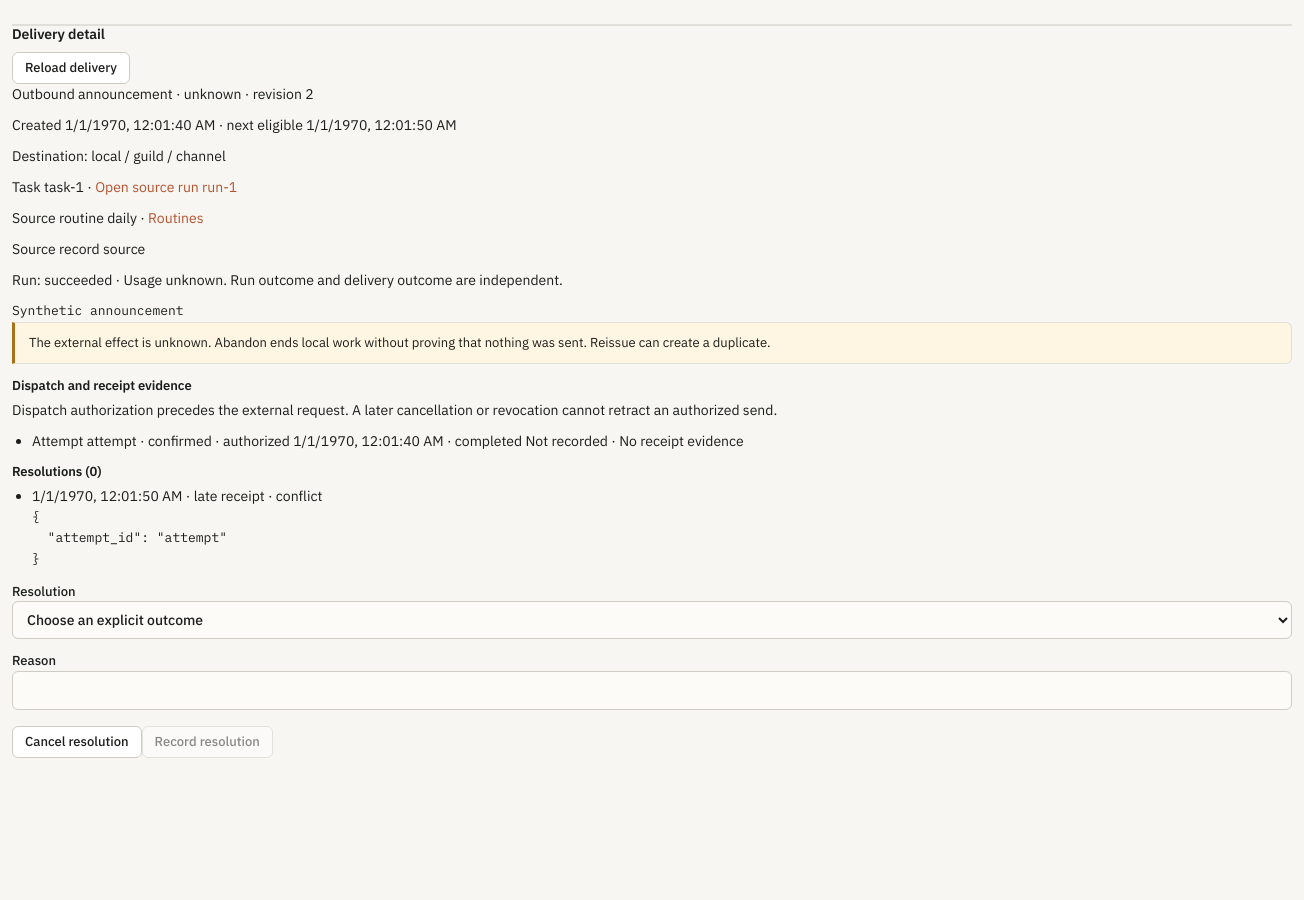
uses explicit late-conflict attempt evidence even after a terminal receipt
Select "Affirmative not-sent evidence" in the dropdown labelled "Resolution". click: [652, 620]
box: [12,601,1292,639]
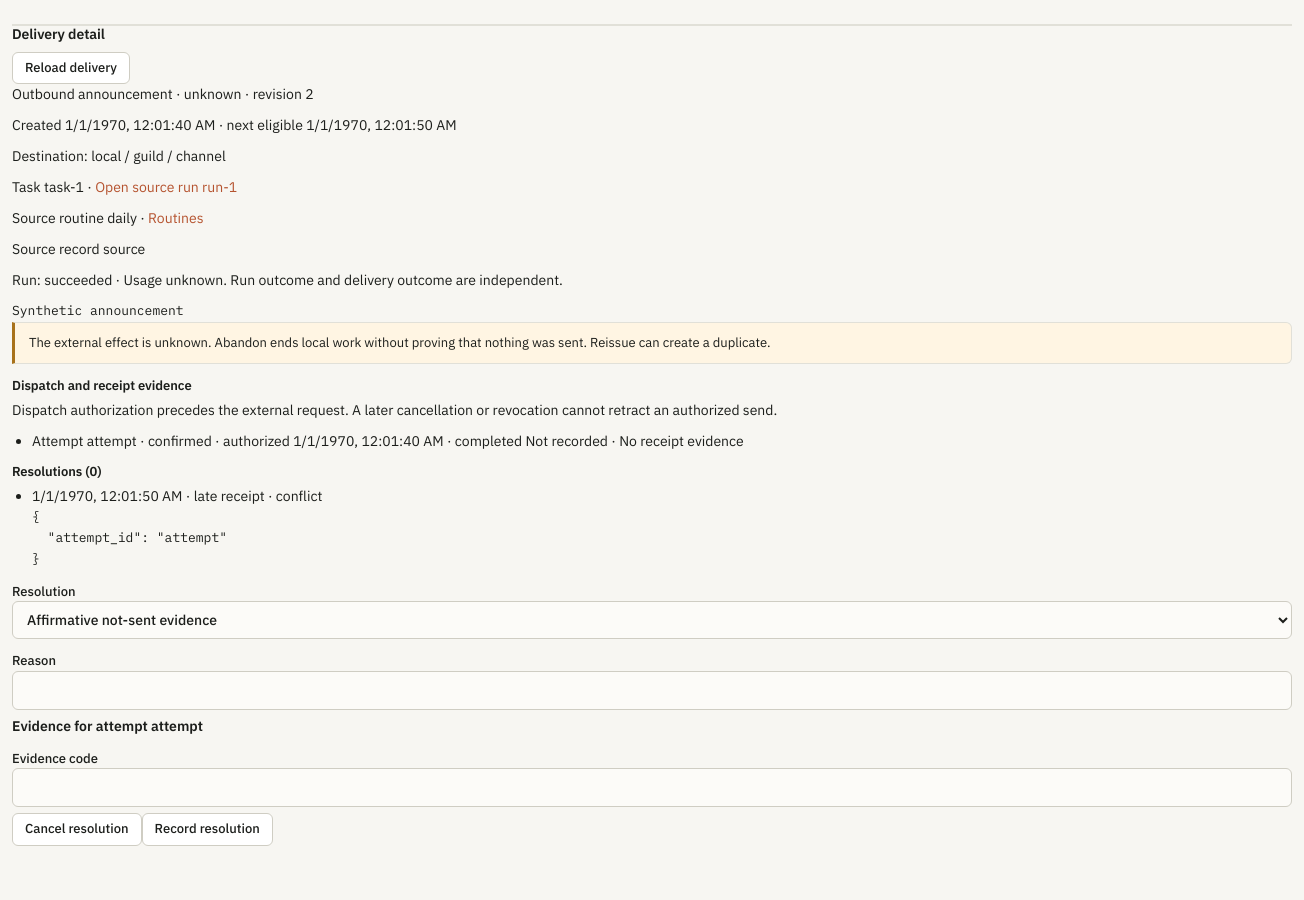
Type "Verified absence" into the field labelled "Reason". click: [652, 690]
box: [12,671,1292,710]
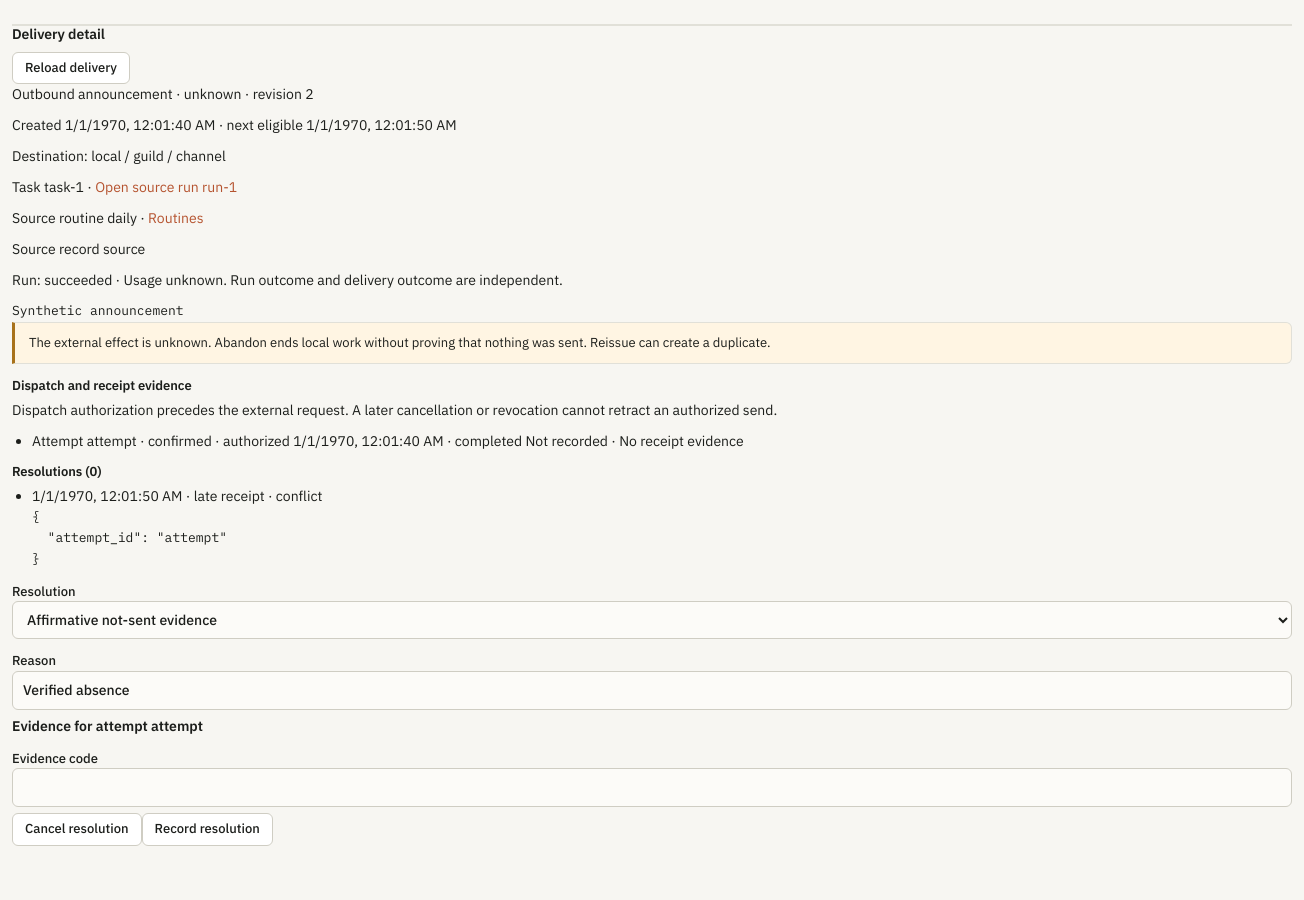
Type "operator_verified_absence" into the field labelled "Evidence code". click: [652, 788]
box: [12,768,1292,807]
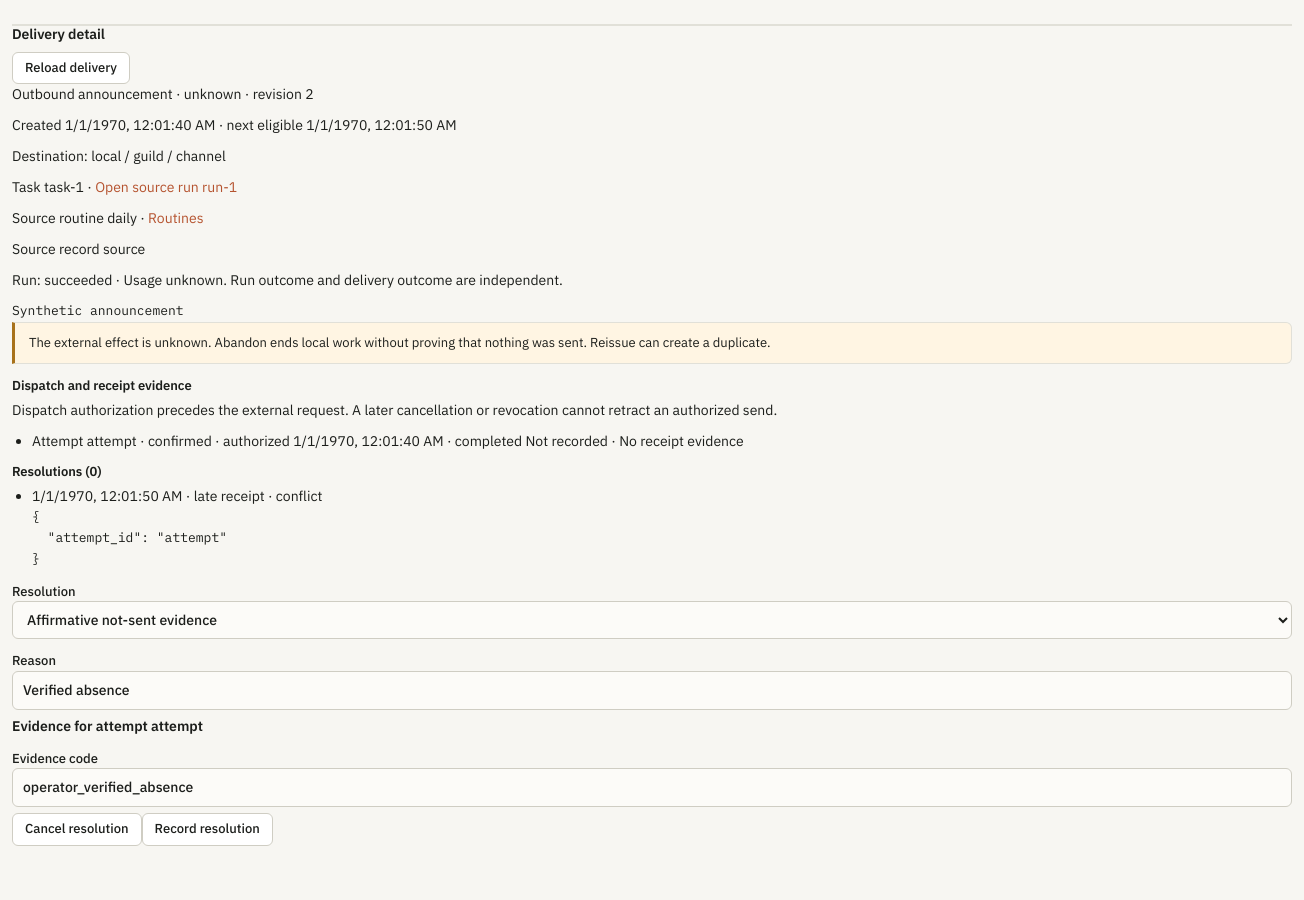
Click the button "Record resolution". click: [207, 830]
box: [142,813,273,846]
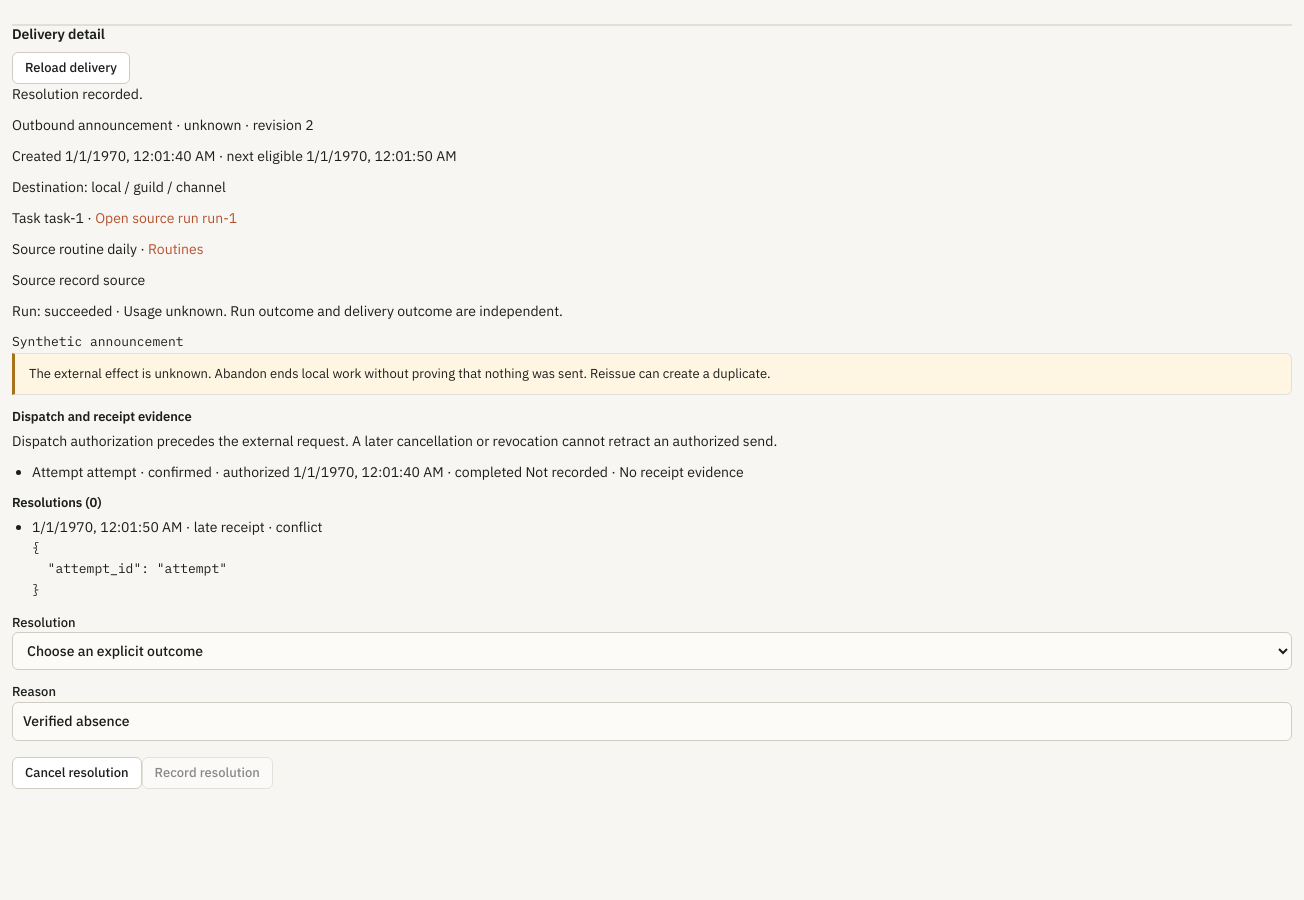
Check: the text "Resolution recorded." is shown, box [12,85,143,103]
